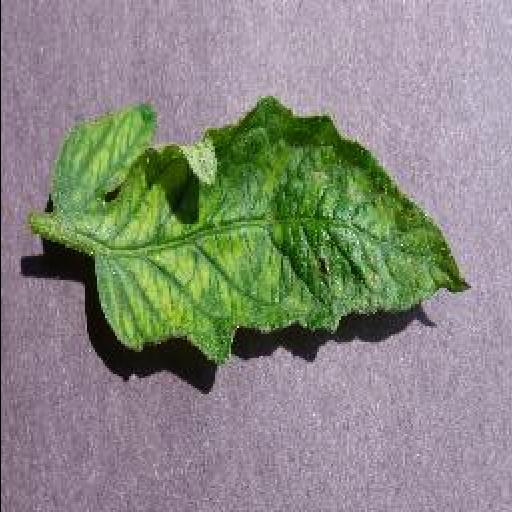Mosaic Virus: (52, 94, 470, 366)
